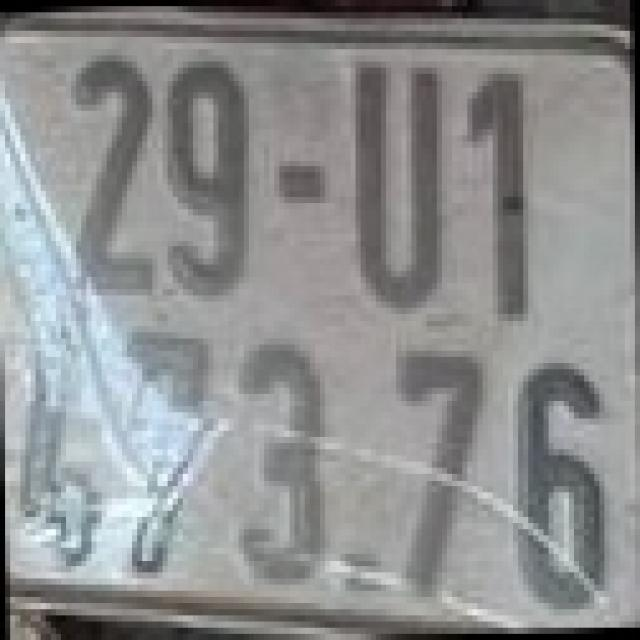1: (462, 62, 544, 326)
2: (66, 49, 163, 296)
3: (229, 332, 335, 585)
6: (508, 351, 609, 609)
7: (391, 338, 488, 591)
9: (163, 56, 259, 302)
U: (340, 55, 452, 308)
